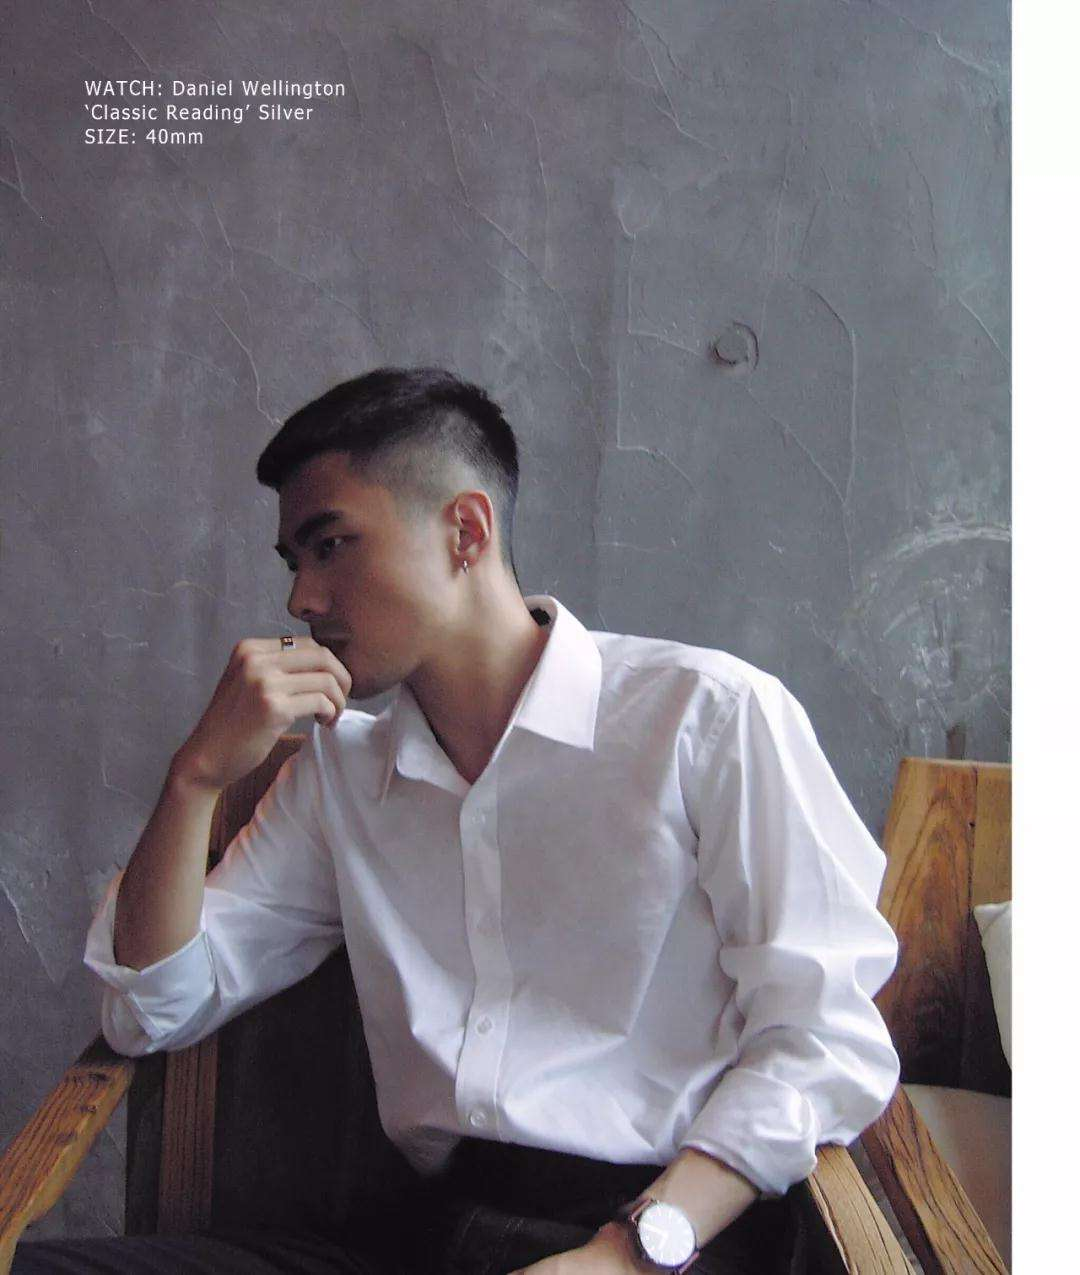person: (170, 326, 878, 1270)
